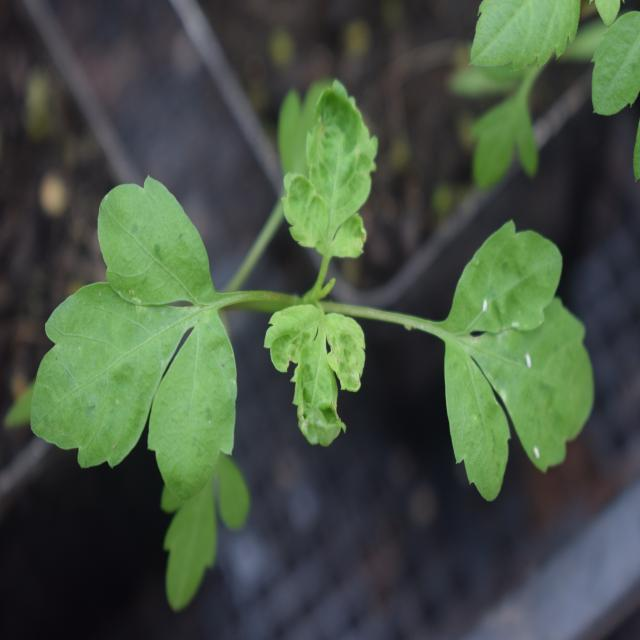Bidens pilosa: (50, 79, 587, 574)
